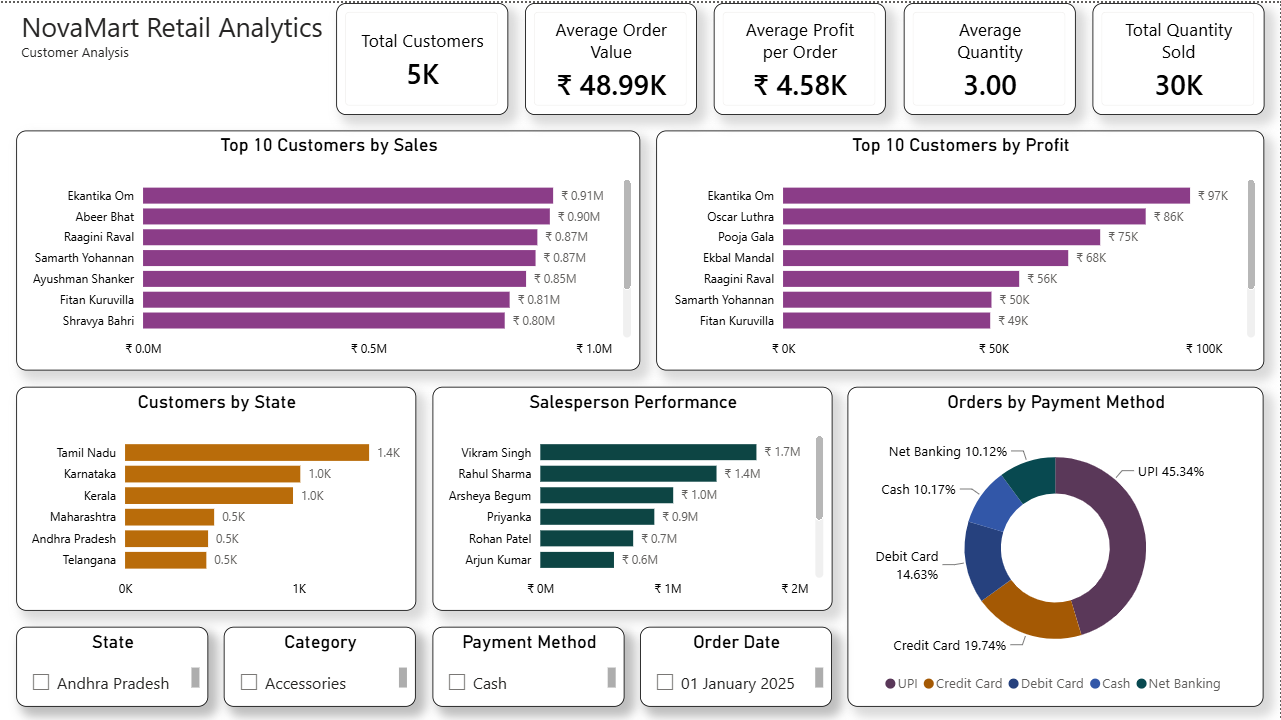

This screenshot's page, from the dashboard's own definition file:
{"tool":"powerbi","page":{"name":"👥 Customer Analysis","canvas":[1280,720],"ordinal":2},"visuals":[{"type":"cardVisual","title":"Total Customers","fields":{"Data":["Measures (2).Total customers"]},"box":[336,0,171.9,112],"z":0,"group":"g2"},{"type":"clusteredBarChart","title":"Top 10 Customers by Sales","fields":{"Y":["Measures (2).Total Sales"],"Category":["NovaMart Sales.customer_name"]},"box":[16,128,624,240],"z":0},{"type":"slicer","title":"State","fields":{"Values":["NovaMart Sales.state"]},"box":[16,624,192,80],"z":0,"group":"g1"},{"type":"clusteredBarChart","title":"Top 10 Customers by Profit","fields":{"Category":["NovaMart Sales.customer_name"],"Y":["Measures (2).Total Profit"]},"box":[656,128,608,240],"z":1000},{"type":"slicer","title":"Category","fields":{"Values":["NovaMart Sales.category"]},"box":[224,624,192,80],"z":1000,"group":"g1"},{"type":"cardVisual","title":"Total Quantity Sold","fields":{"Data":["Measures (2).Total Quantity Sold"]},"box":[1092.1,0,171.9,112],"z":2000,"group":"g2"},{"type":"clusteredBarChart","title":"Salesperson Performance","fields":{"Y":["Measures (2).Total Sales"],"Category":["NovaMart Sales.salesperson"]},"box":[432,384,400,224],"z":2000},{"type":"slicer","title":"Payment Method","fields":{"Values":["NovaMart Sales.payment_method"]},"box":[432,624,192,80],"z":2000,"group":"g1"},{"type":"donutChart","title":"Orders by Payment Method","fields":{"Category":["NovaMart Sales.payment_method"],"Y":["Measures (2).Total Orders"]},"box":[848,384,416,320],"z":3000},{"type":"slicer","title":"Order Date","fields":{"Values":["NovaMart Sales.order_date"]},"box":[640,624,192,80],"z":3000,"group":"g1"},{"type":"cardVisual","title":"Average Quantity ","fields":{"Data":["Measures (2).Average Quantity"]},"box":[903.1,0,171.9,112],"z":4000,"group":"g2"},{"type":"clusteredBarChart","title":"Customers by State","fields":{"Category":["NovaMart Sales.state"],"Y":["Measures (2).Total customers"]},"box":[16,384,400,224],"z":4000},{"type":"group","id":"g1","title":"Group 1","box":[16,624,816,80],"z":5000},{"type":"textbox","box":[16,0,320,80],"z":6000},{"type":"cardVisual","title":"Average Profit per Order","fields":{"Data":["Measures (2).Average Profit per Order"]},"box":[714.1,0,171.9,112],"z":6000,"group":"g2"},{"type":"group","id":"g2","title":"Group 2","box":[336,0,928,112],"z":7000},{"type":"cardVisual","title":"Average Oder Value","fields":{"Data":["Measures (2).Average Order Value"]},"box":[525,0,171.9,112],"z":8000,"group":"g2"}]}

Visuals, with their boxes in screenshot pixels (x1, y1, x2, y2), scaled from the page's 1280x720 canvas onto the 1281x720 screenshot:
"Total Customers" cardVisual: (336,0,508,112)
"Top 10 Customers by Sales" clusteredBarChart: (16,128,640,368)
"State" slicer: (16,624,208,704)
"Top 10 Customers by Profit" clusteredBarChart: (657,128,1265,368)
"Category" slicer: (224,624,416,704)
"Total Quantity Sold" cardVisual: (1093,0,1265,112)
"Salesperson Performance" clusteredBarChart: (432,384,833,608)
"Payment Method" slicer: (432,624,624,704)
"Orders by Payment Method" donutChart: (849,384,1265,704)
"Order Date" slicer: (640,624,833,704)
"Average Quantity " cardVisual: (904,0,1076,112)
"Customers by State" clusteredBarChart: (16,384,416,608)
"Group 1" group: (16,624,833,704)
textbox: (16,0,336,80)
"Average Profit per Order" cardVisual: (715,0,887,112)
"Group 2" group: (336,0,1265,112)
"Average Oder Value" cardVisual: (525,0,697,112)
